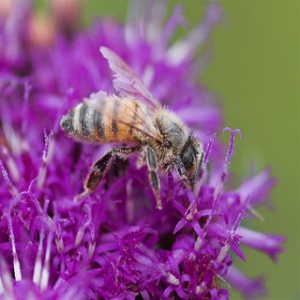bee: (58, 46, 206, 220)
